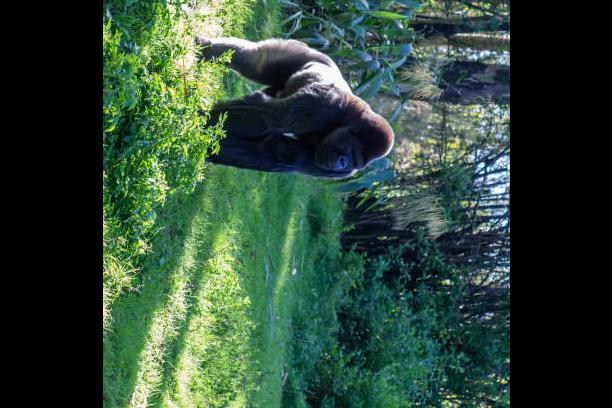gorille_Autres: (206, 38, 398, 220)
